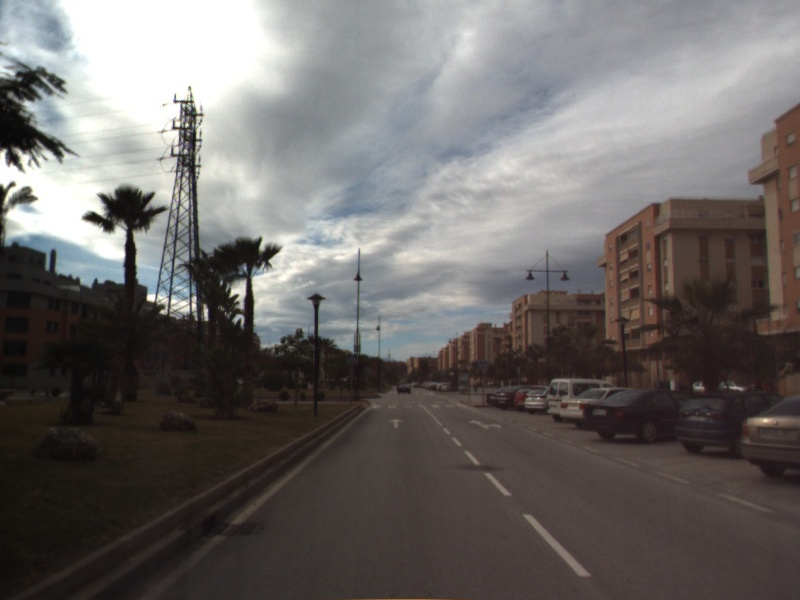STRAIGHT: (386, 417, 407, 430)
STRAIGHT_RIGHT: (466, 417, 504, 431)
